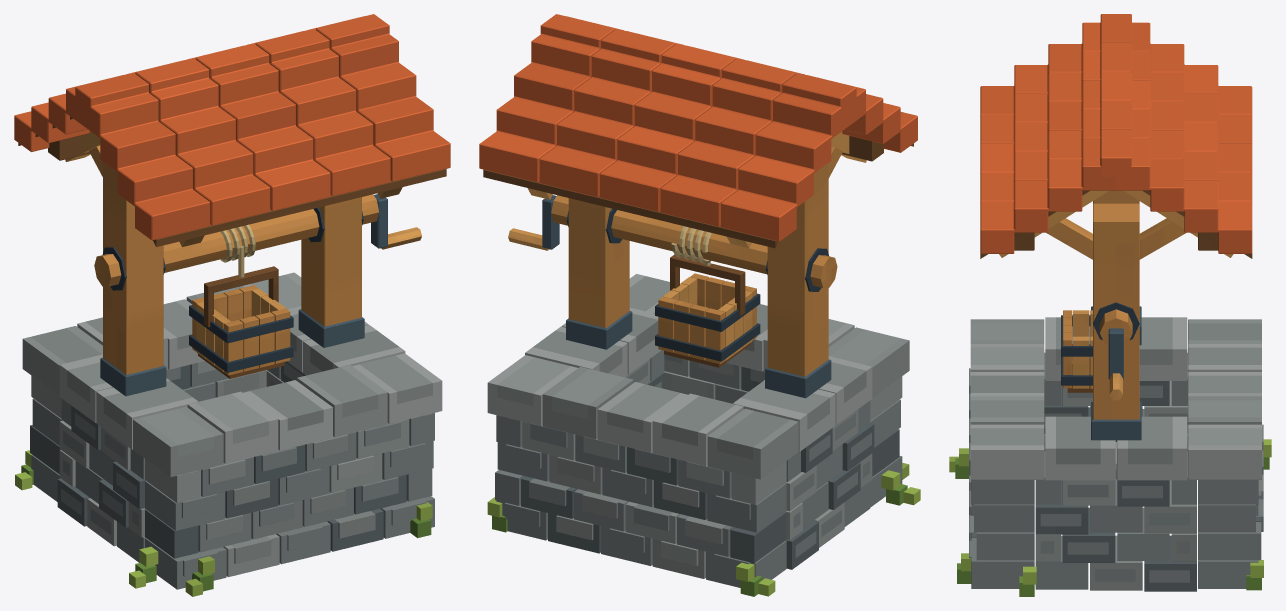
The model's file is SM_VMF_Facility_WaterWell.fbx.
3 renders of one model, left to right at view 1: azimuth 30°, elevation 25°; view 2: azimuth 150°, elevation 25°; view 3: azimuth 270°, elevation 25°, orthographic. The views are drawn at different scales.
Parts seen in each view (by area): view 1: SM_VMF_Facility_WaterWell_StoneWell_Masonry, SM_VMF_Facility_WaterWell_Roof_TerracottaTiles, SM_VMF_Facility_WaterWell_TimberFrame_PostsAndEaves, SM_VMF_Facility_WaterWell_Pivot_Bucket_BucketStaves, SM_VMF_Facility_WaterWell_Winder_WoodenSpindle, SM_VMF_Facility_WaterWell_Grass_Blocks, SM_VMF_Facility_WaterWell_Roof_RoofDeck, SM_VMF_Facility_WaterWell_Pivot_Bucket_BucketBands, SM_VMF_Facility_WaterWell_Pivot_Bucket_BucketHandle, SM_VMF_Facility_WaterWell_WoundRope, SM_VMF_Facility_WaterWell_Winder_Crank_Crank; view 2: SM_VMF_Facility_WaterWell_StoneWell_Masonry, SM_VMF_Facility_WaterWell_Roof_TerracottaTiles, SM_VMF_Facility_WaterWell_TimberFrame_PostsAndEaves, SM_VMF_Facility_WaterWell_Pivot_Bucket_BucketStaves, SM_VMF_Facility_WaterWell_Winder_WoodenSpindle, SM_VMF_Facility_WaterWell_Roof_RoofDeck, SM_VMF_Facility_WaterWell_Pivot_Bucket_BucketBands, SM_VMF_Facility_WaterWell_Grass_Blocks, SM_VMF_Facility_WaterWell_Pivot_Bucket_BucketHandle, SM_VMF_Facility_WaterWell_WoundRope, SM_VMF_Facility_WaterWell_Winder_Crank_Crank; view 3: SM_VMF_Facility_WaterWell_StoneWell_Masonry, SM_VMF_Facility_WaterWell_Roof_TerracottaTiles, SM_VMF_Facility_WaterWell_TimberFrame_PostsAndEaves, SM_VMF_Facility_WaterWell_Grass_Blocks, SM_VMF_Facility_WaterWell_Pivot_Bucket_BucketStaves, SM_VMF_Facility_WaterWell_TimberFrame_BraceRear58, SM_VMF_Facility_WaterWell_TimberFrame_BraceFront58, SM_VMF_Facility_WaterWell_Pivot_Bucket_BucketBands, SM_VMF_Facility_WaterWell_Winder_Crank_Crank, SM_VMF_Facility_WaterWell_Winder_WoodenSpindle, SM_VMF_Facility_WaterWell_Bearing58, SM_VMF_Facility_WaterWell_TimberFrame_RafterRear58 (+1 smaller).
Part boxes in pixels (<box>): SM_VMF_Facility_WaterWell_StoneWell_Masonry: <box>22,272,442,589</box>; SM_VMF_Facility_WaterWell_Roof_TerracottaTiles: <box>14,14,450,240</box>; SM_VMF_Facility_WaterWell_TimberFrame_PostsAndEaves: <box>48,135,364,396</box>; SM_VMF_Facility_WaterWell_Pivot_Bucket_BucketStaves: <box>192,285,290,378</box>; SM_VMF_Facility_WaterWell_Winder_WoodenSpindle: <box>94,194,379,286</box>; SM_VMF_Facility_WaterWell_Grass_Blocks: <box>15,450,432,596</box>; SM_VMF_Facility_WaterWell_Roof_RoofDeck: <box>18,116,446,246</box>; SM_VMF_Facility_WaterWell_Pivot_Bucket_BucketBands: <box>189,305,293,372</box>; SM_VMF_Facility_WaterWell_Pivot_Bucket_BucketHandle: <box>204,266,278,327</box>; SM_VMF_Facility_WaterWell_WoundRope: <box>220,224,255,262</box>; SM_VMF_Facility_WaterWell_Winder_Crank_Crank: <box>371,194,387,248</box>; SM_VMF_Facility_WaterWell_StoneWell_Masonry: <box>487,274,909,587</box>; SM_VMF_Facility_WaterWell_Roof_TerracottaTiles: <box>479,14,917,241</box>; SM_VMF_Facility_WaterWell_TimberFrame_PostsAndEaves: <box>566,136,883,398</box>; SM_VMF_Facility_WaterWell_Pivot_Bucket_BucketStaves: <box>658,273,756,367</box>; SM_VMF_Facility_WaterWell_Winder_WoodenSpindle: <box>551,195,837,288</box>; SM_VMF_Facility_WaterWell_Roof_RoofDeck: <box>483,117,913,248</box>; SM_VMF_Facility_WaterWell_Pivot_Bucket_BucketBands: <box>655,293,760,361</box>; SM_VMF_Facility_WaterWell_Grass_Blocks: <box>487,463,920,596</box>; SM_VMF_Facility_WaterWell_Pivot_Bucket_BucketHandle: <box>670,254,745,315</box>; SM_VMF_Facility_WaterWell_WoundRope: <box>671,226,711,263</box>; SM_VMF_Facility_WaterWell_Winder_Crank_Crank: <box>542,195,559,249</box>; SM_VMF_Facility_WaterWell_StoneWell_Masonry: <box>969,317,1263,591</box>; SM_VMF_Facility_WaterWell_Roof_TerracottaTiles: <box>980,14,1252,253</box>; SM_VMF_Facility_WaterWell_TimberFrame_PostsAndEaves: <box>1014,190,1218,441</box>; SM_VMF_Facility_WaterWell_Grass_Blocks: <box>949,439,1271,596</box>; SM_VMF_Facility_WaterWell_Pivot_Bucket_BucketStaves: <box>1063,310,1092,392</box>; SM_VMF_Facility_WaterWell_TimberFrame_BraceRear58: <box>1139,218,1186,259</box>; SM_VMF_Facility_WaterWell_TimberFrame_BraceFront58: <box>1046,218,1092,259</box>; SM_VMF_Facility_WaterWell_Pivot_Bucket_BucketBands: <box>1061,315,1092,385</box>; SM_VMF_Facility_WaterWell_Winder_Crank_Crank: <box>1108,328,1123,379</box>; SM_VMF_Facility_WaterWell_Winder_WoodenSpindle: <box>1099,309,1132,345</box>; SM_VMF_Facility_WaterWell_Bearing58: <box>1093,302,1139,340</box>; SM_VMF_Facility_WaterWell_TimberFrame_RafterRear58: <box>1123,190,1233,257</box>.
Size of the model in its own units: 202 by 251 by 166.
Materials: 1 (1 with a texture image).
